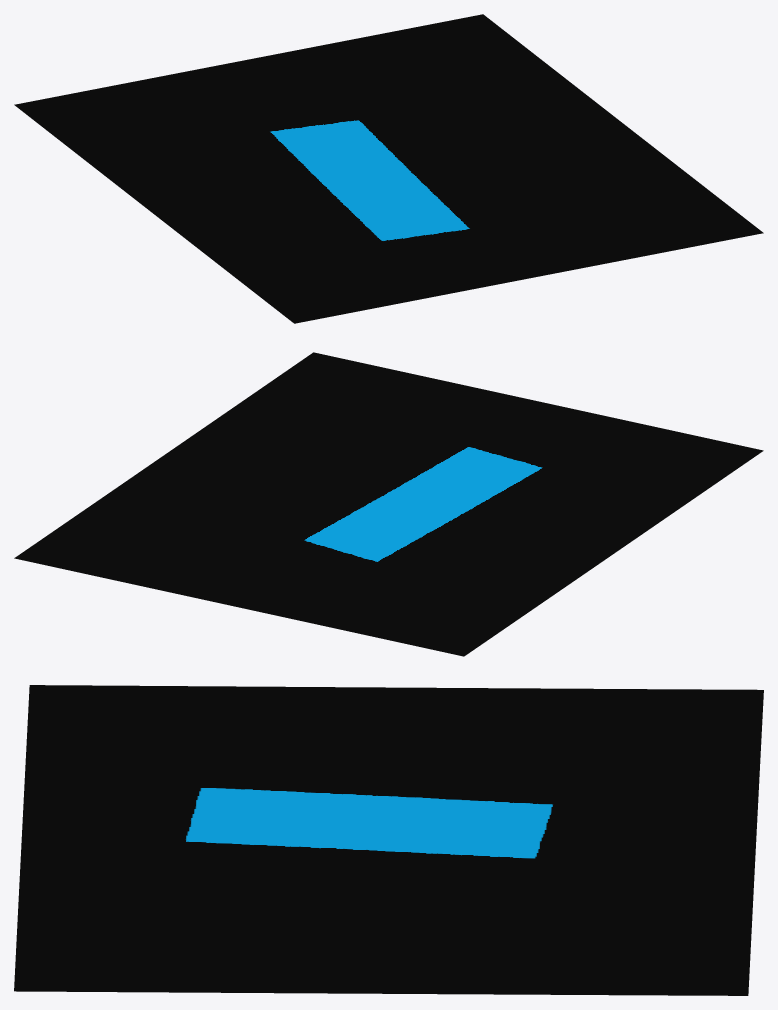
The model's file is KIWX_20030327_054857_REF_0238-26026.png.dae.
The picture shows the model from 3 angles, top to bottom: view 1: azimuth 30°, elevation 25°; view 2: azimuth 150°, elevation 25°; view 3: azimuth 270°, elevation 25°; orthographic projection. The views are drawn at different scales.
Parts seen in each view (by area): view 1: TIN; view 2: TIN; view 3: TIN.
Boxes of the visible parts, left/top/right/bottom form: TIN: left=14, top=14, right=763, bottom=323; TIN: left=14, top=352, right=763, bottom=656; TIN: left=14, top=685, right=763, bottom=995.
Bounding box in the file's own units: 5791 × 6306 × 232.
Materials: 1 (1 with a texture image).
